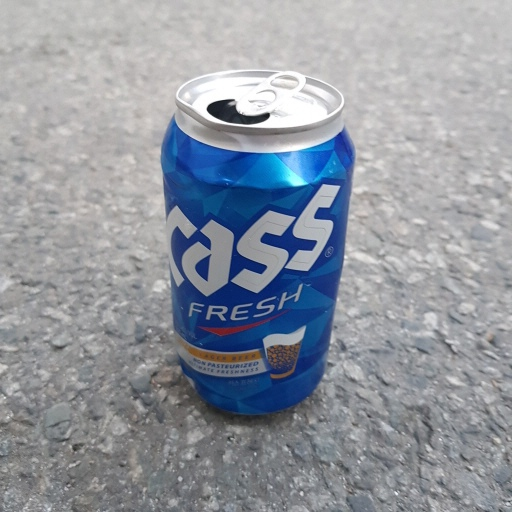Metal_0: (158, 68, 357, 421)
